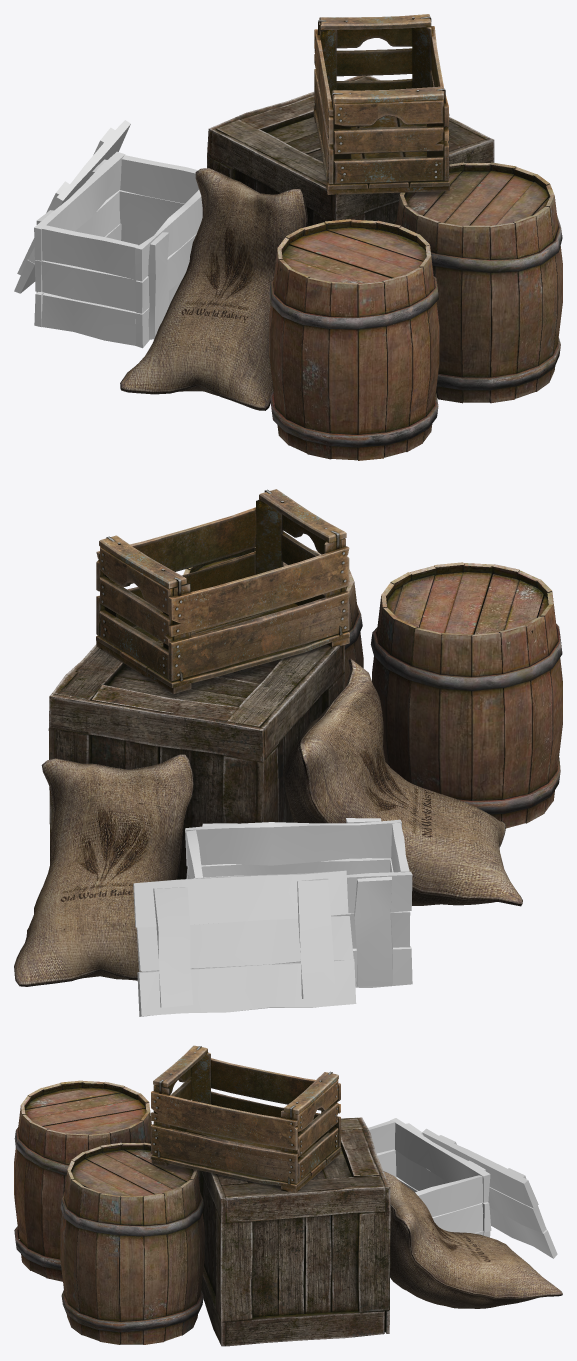
The model's file is BoxesSet.fbx.
3 renders of one model, top to bottom at view 1: azimuth 30°, elevation 25°; view 2: azimuth 150°, elevation 25°; view 3: azimuth 270°, elevation 25°, orthographic. The views are drawn at different scales.
Visible parts, largest first — view 1: prim1, prim0, prim2.002, prim2.001; view 2: prim0, prim2.001, prim2.002, prim1; view 3: prim0, prim1, prim2.002, prim2.001.
Boxes of the visible parts, bbox=[...] form: prim1: bbox=[269, 162, 562, 460]; prim0: bbox=[207, 14, 494, 226]; prim2.002: bbox=[14, 120, 202, 348]; prim2.001: bbox=[120, 168, 307, 410]; prim0: bbox=[48, 489, 349, 879]; prim2.001: bbox=[14, 659, 522, 986]; prim2.002: bbox=[133, 818, 412, 1016]; prim1: bbox=[183, 547, 562, 828]; prim0: bbox=[150, 1045, 390, 1346]; prim1: bbox=[14, 1080, 204, 1344]; prim2.002: bbox=[368, 1118, 557, 1258]; prim2.001: bbox=[383, 1171, 562, 1308].
Size of the model in its own units: 158 by 113 by 244.
